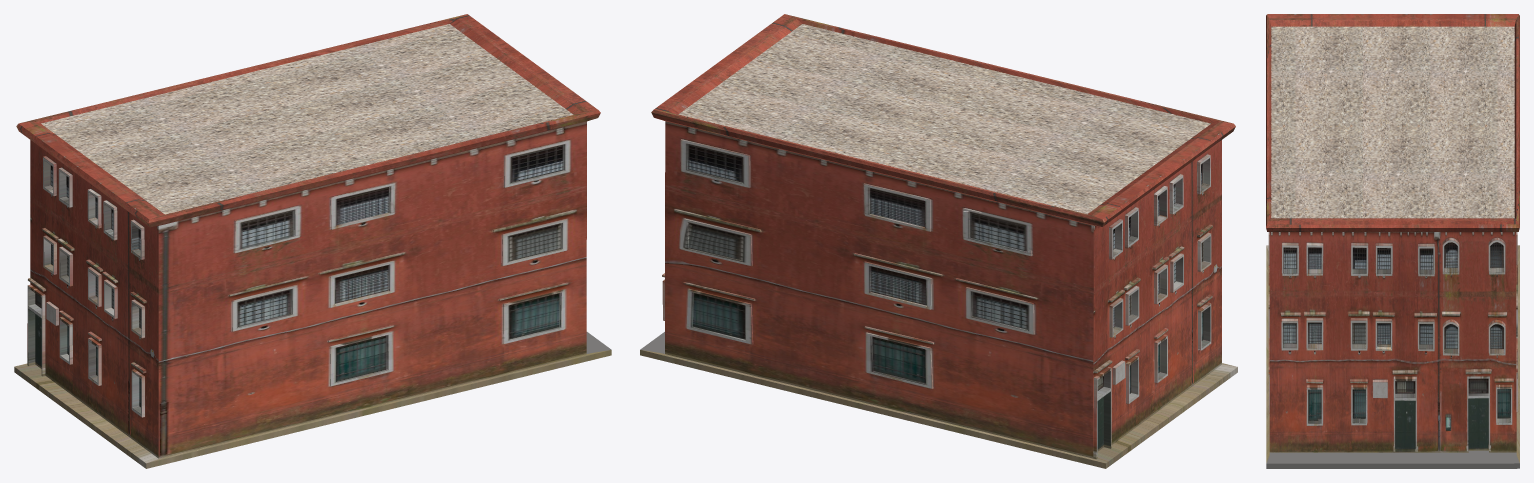
File: casa3.fbx
3 renders of one model, left to right at view 1: azimuth 30°, elevation 25°; view 2: azimuth 150°, elevation 25°; view 3: azimuth 270°, elevation 25°, orthographic. The views are drawn at different scales.
Parts seen in each view (by area): view 1: Material_001-material, Material_002-material; view 2: Material_001-material, Material_002-material; view 3: Material_001-material, Material_002-material.
Boxes of the visible parts, <box> form: Material_001-material: <box>14,14,611,468</box>; Material_002-material: <box>41,24,573,214</box>; Material_001-material: <box>640,14,1237,468</box>; Material_002-material: <box>678,24,1210,214</box>; Material_001-material: <box>1266,14,1519,468</box>; Material_002-material: <box>1271,26,1514,218</box>.
Bounding box in the file's own units: 419 × 213 × 206.
2 materials, 2 textured.
